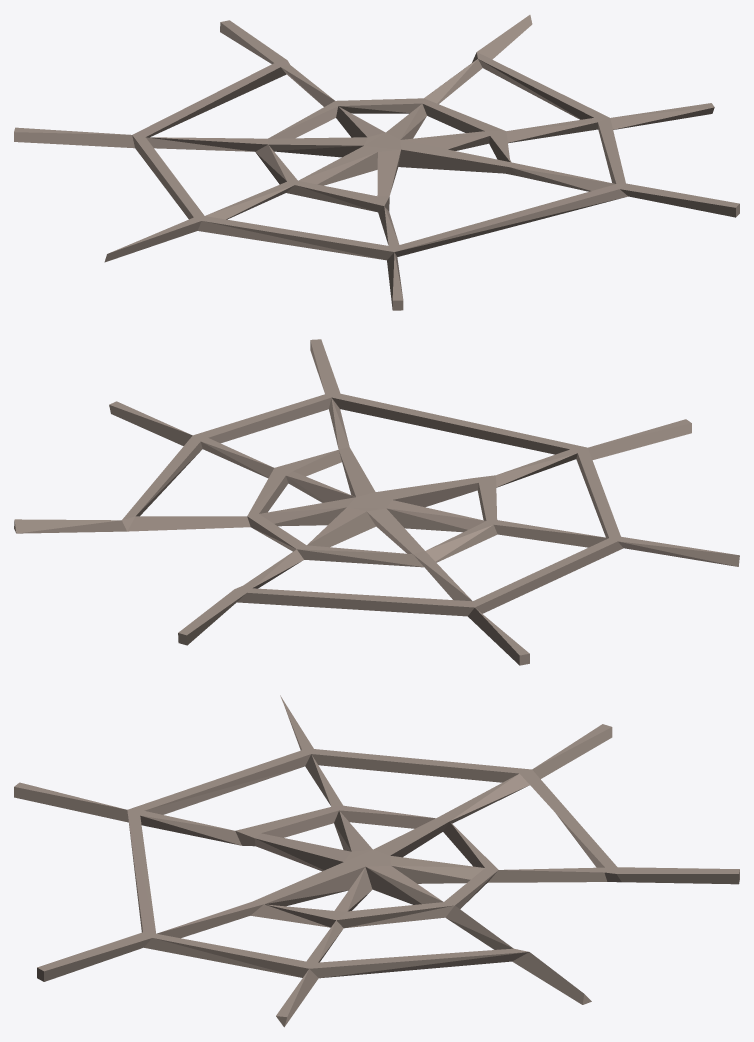
Rendered from LPHorror_SpiderWebSmall.fbx.
3 renders of one model, top to bottom at view 1: azimuth 30°, elevation 25°; view 2: azimuth 150°, elevation 25°; view 3: azimuth 270°, elevation 25°, orthographic. The views are drawn at different scales.
Visible parts, largest first — view 1: SpiderWebSmall; view 2: SpiderWebSmall; view 3: SpiderWebSmall.
Boxes of the visible parts, x1,y1,x2,y2 form: SpiderWebSmall: (14,15,739,310); SpiderWebSmall: (14,339,739,665); SpiderWebSmall: (14,695,739,1027).
Bounding box in the file's own units: 124 × 3.5 × 118.
